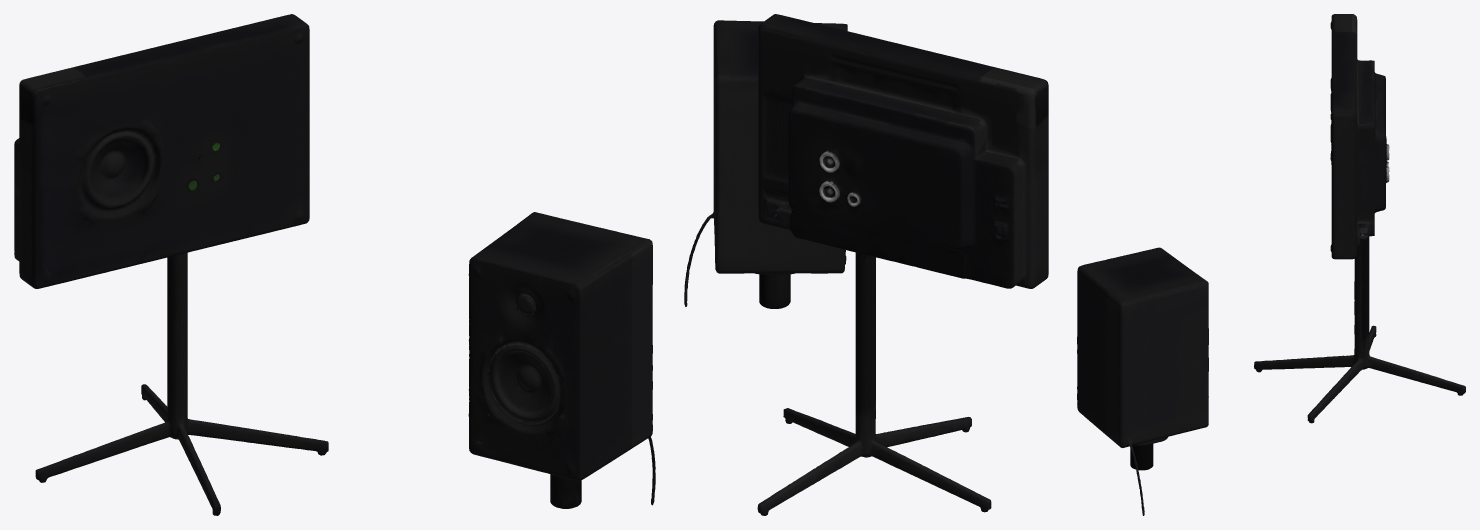
File: monitor.glb
3 renders of one model, left to right at view 1: azimuth 30°, elevation 25°; view 2: azimuth 150°, elevation 25°; view 3: azimuth 270°, elevation 25°, orthographic. The views are drawn at different scales.
Bounding box in the file's own units: 1.91 × 1.63 × 1.76.
1 material, 1 textured.
